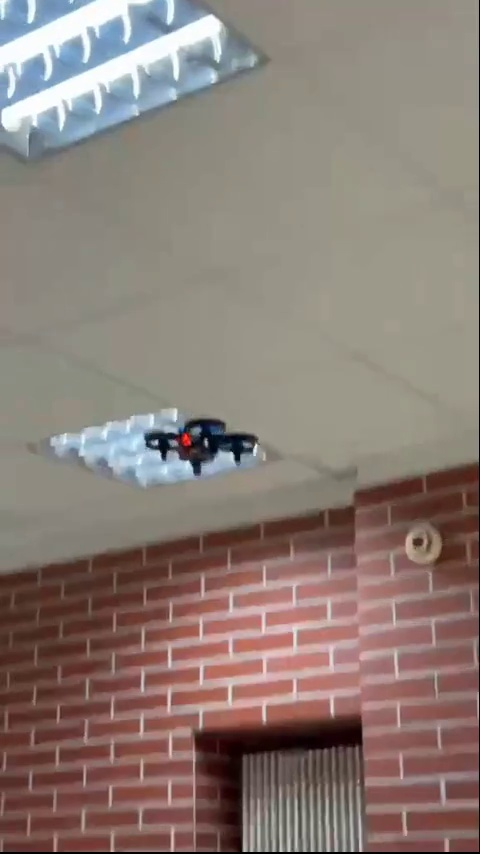drone: (143, 417, 256, 475)
